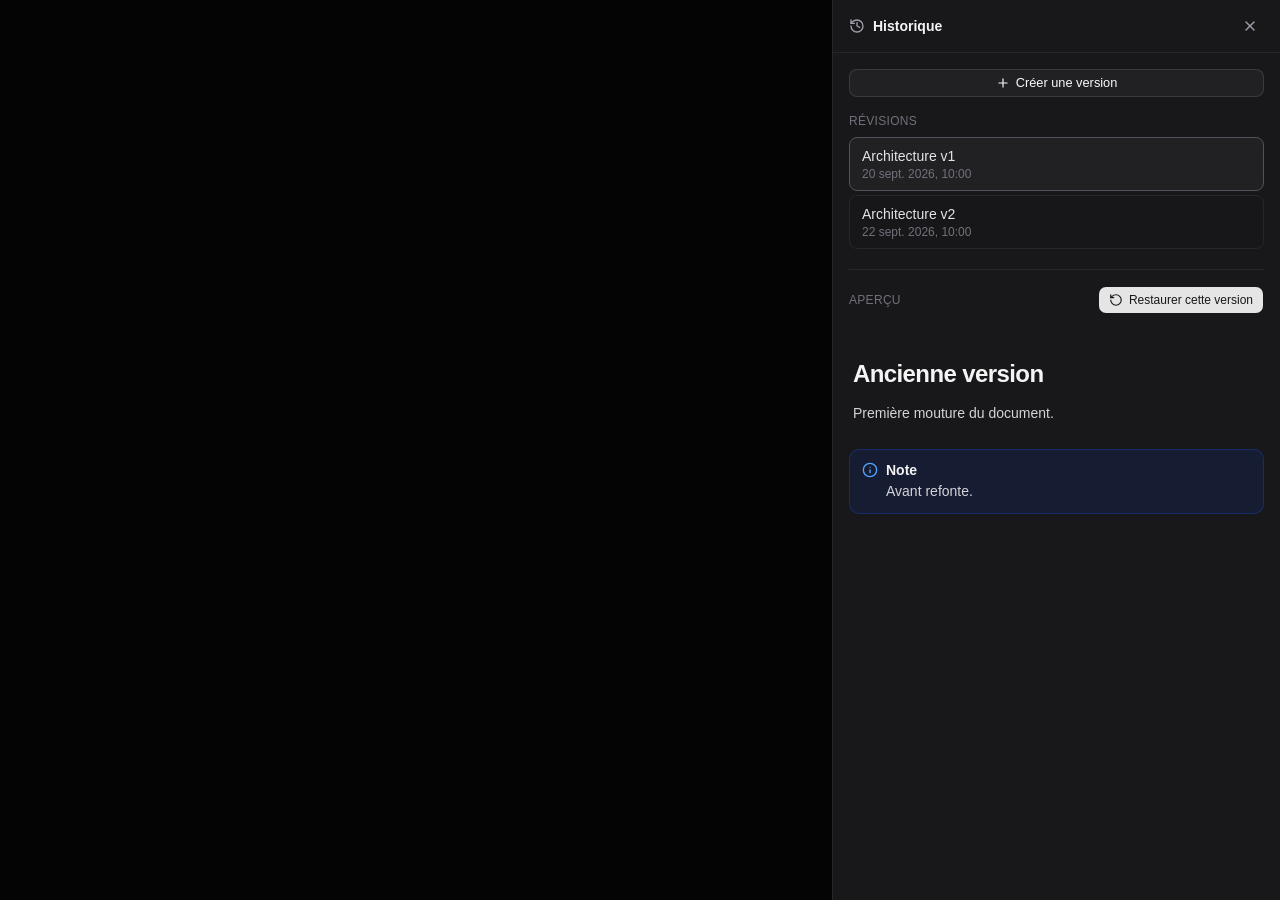
Scenario: HistoryDrawer › met à jour l’aperçu quand une autre révision est sélectionnée
This screenshot has width=1280, height=900.
What coordinates should you click on to do the following:
click the button "Architecture v2 22 sept. 2026, 10:00"
I would click on:
 (909, 214)
Its box is 849,195 -> 1264,249.
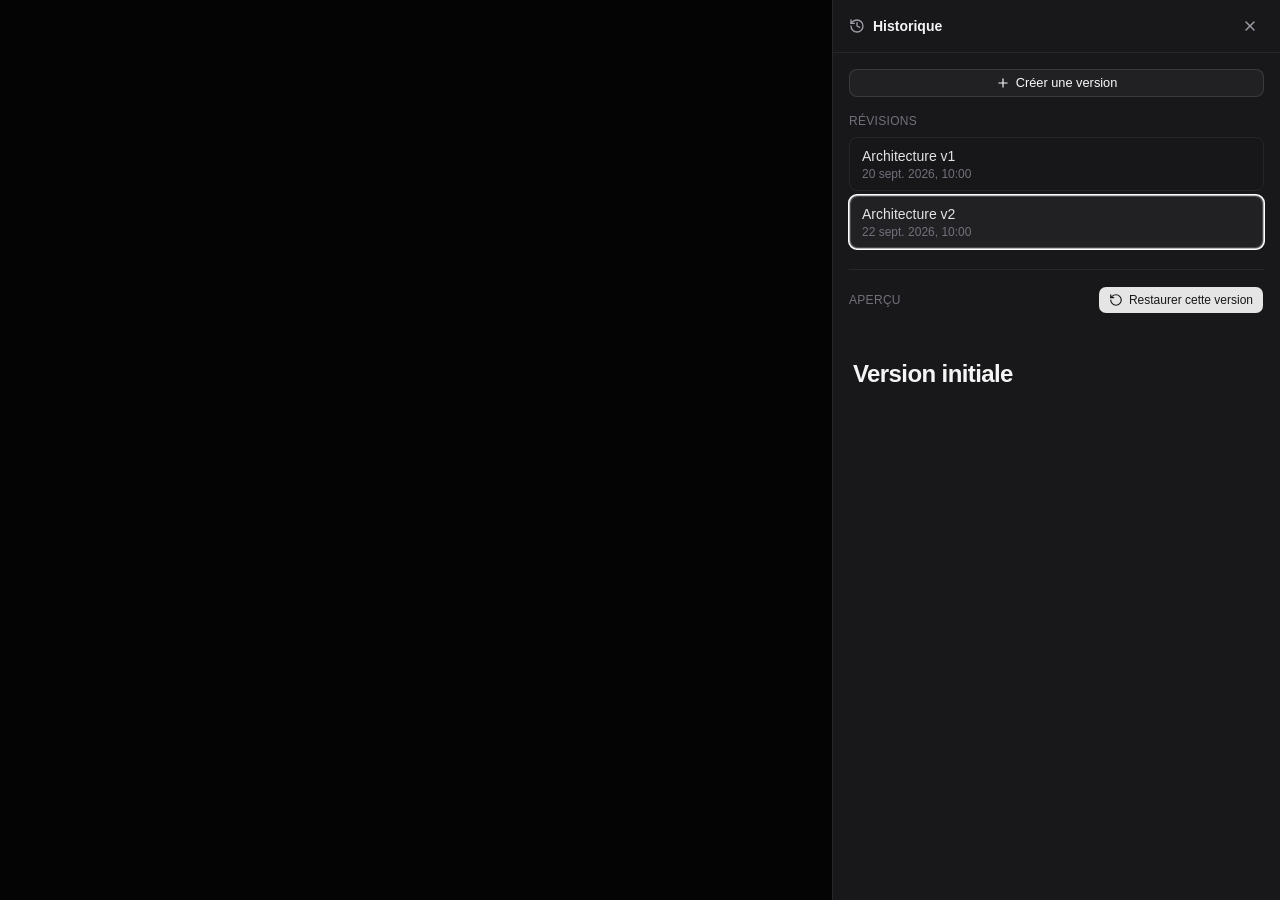
Expected: the heading "Version initiale" is shown, 853,360 -> 1013,387
Expected: the heading "Ancienne version" is gone
